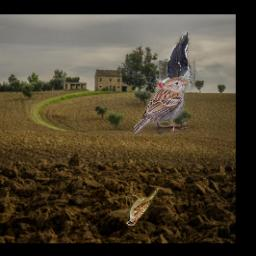Sparrow: (133, 78, 188, 136), (125, 188, 159, 226)
Woodpecker: (159, 31, 195, 92)
